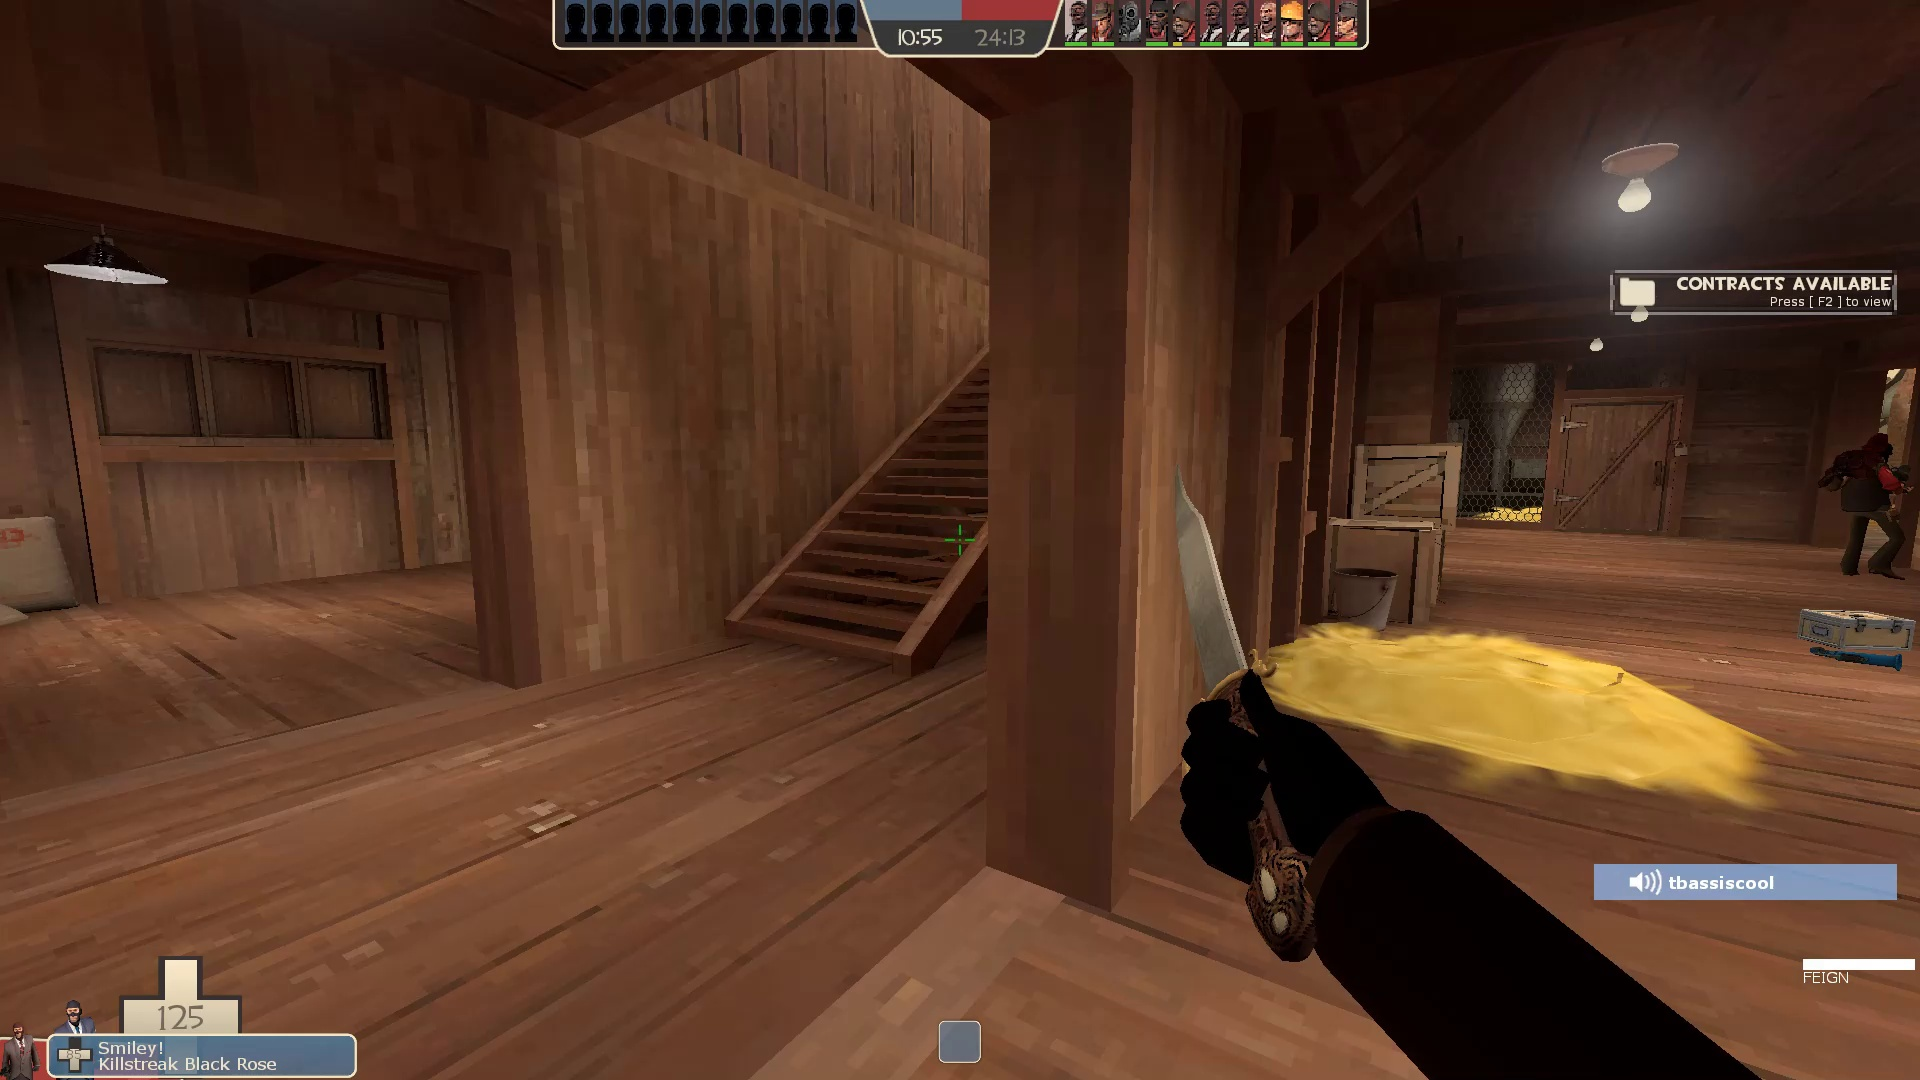red_sniper: (1818, 423, 1920, 585)
